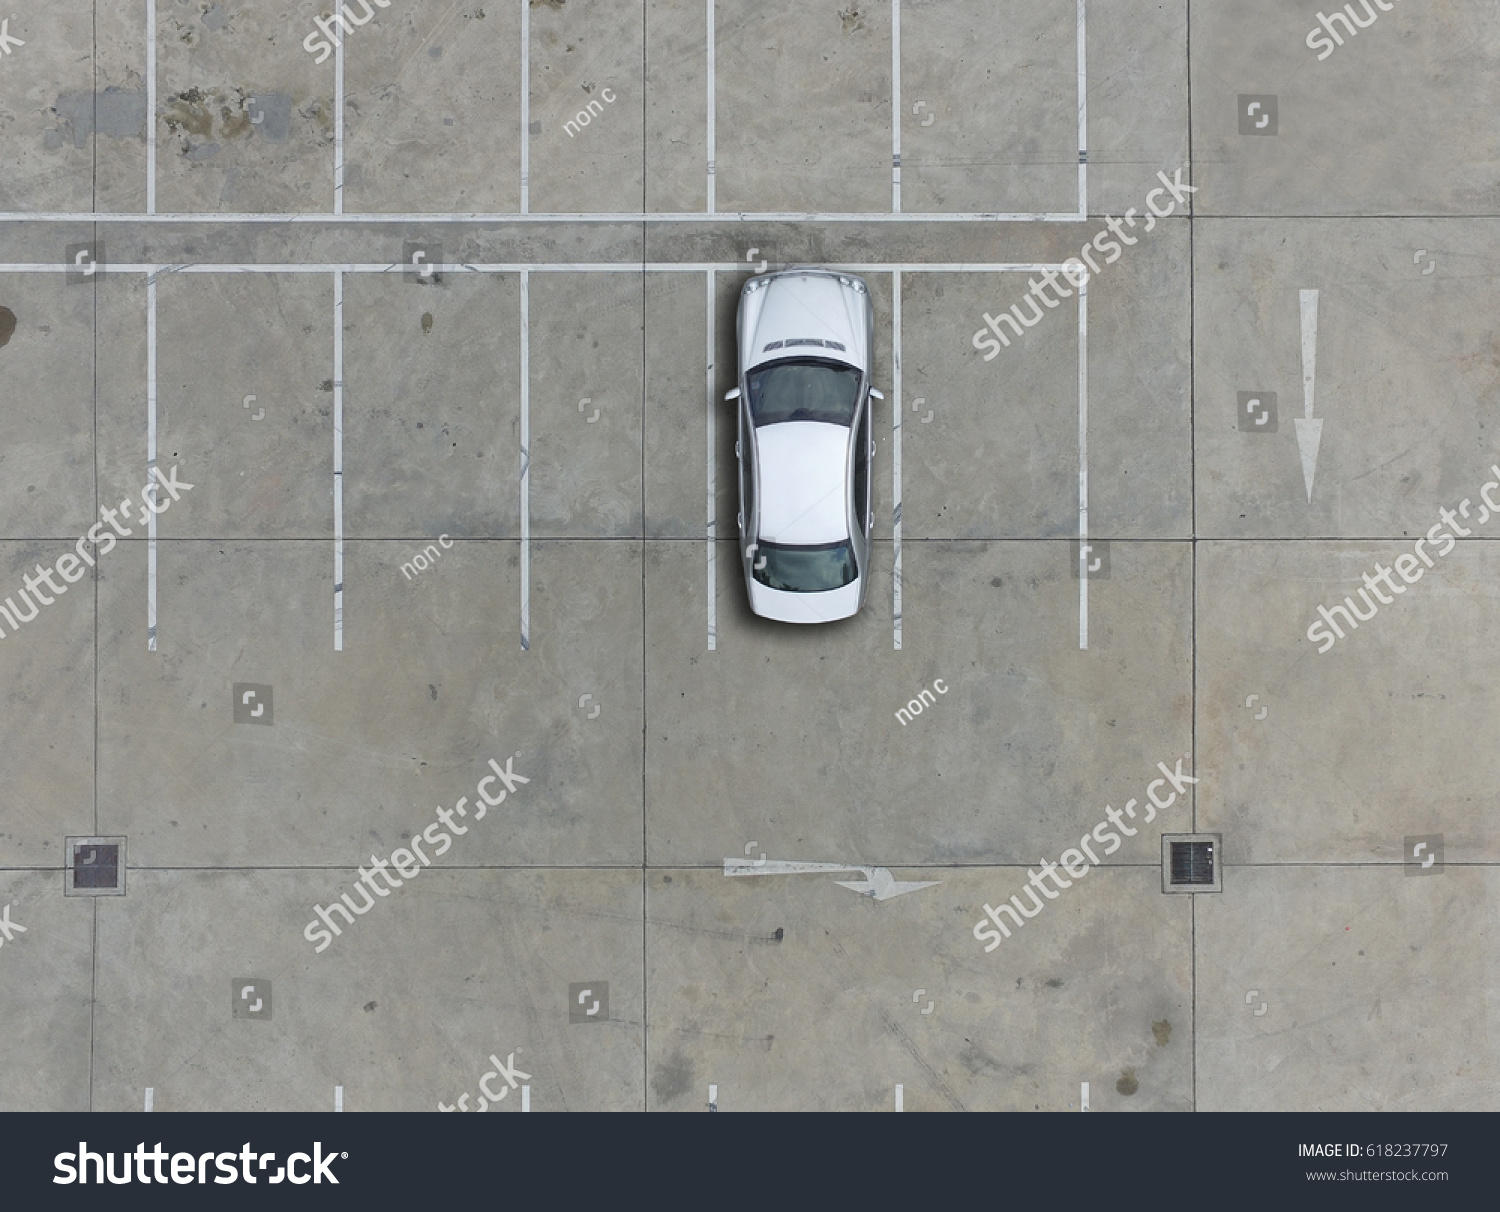Car: (728, 258, 880, 641)
LaneMark: (1, 211, 1089, 221), (1, 263, 1089, 272), (1075, 267, 1092, 649), (517, 267, 531, 652), (334, 275, 346, 652), (148, 267, 160, 655), (894, 270, 905, 655), (888, 2, 905, 214), (706, 272, 715, 658), (519, 2, 534, 218), (141, 1, 155, 210), (334, 1, 346, 221), (705, 2, 717, 219), (1080, 5, 1088, 218)
